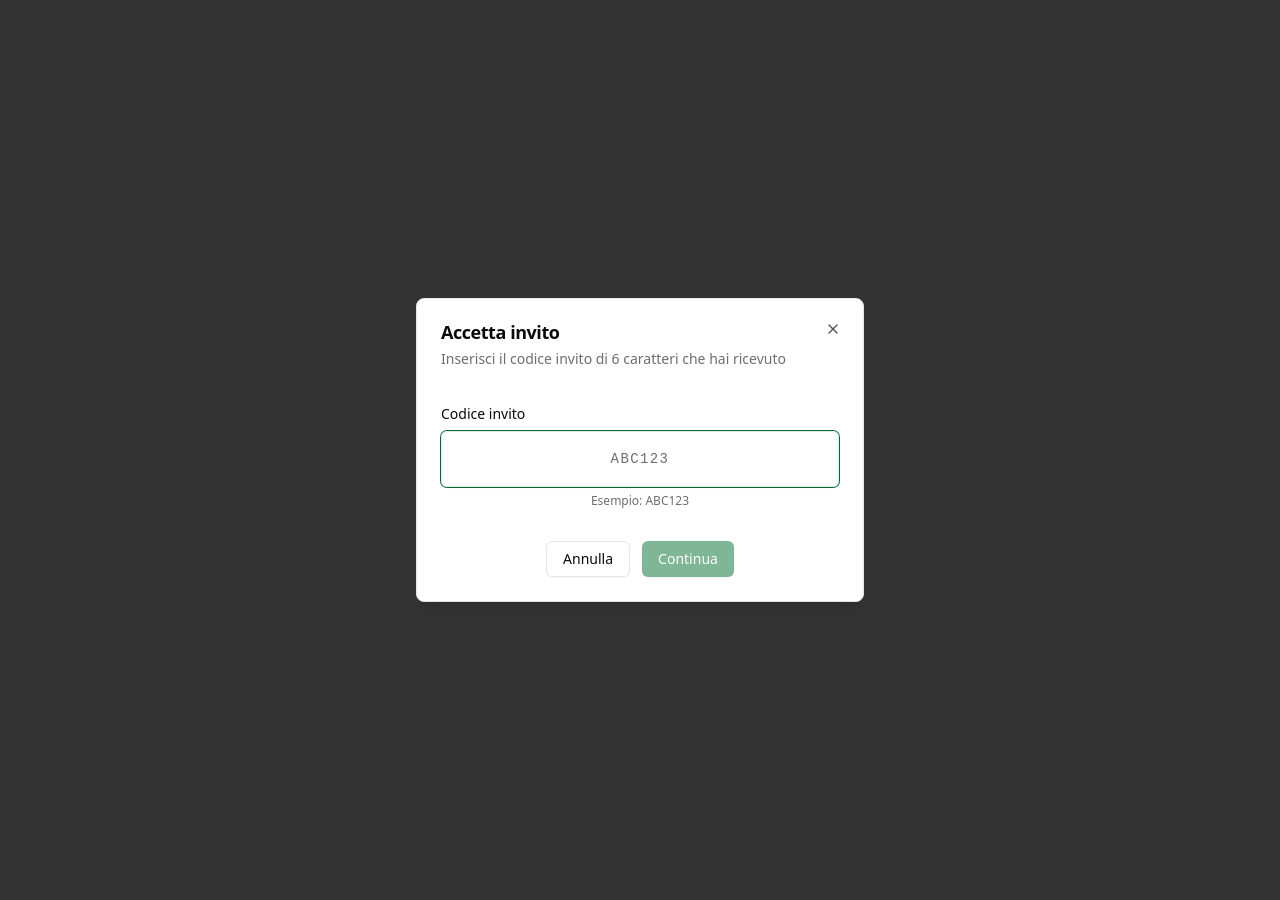
AcceptInviteFlowDialog — validazione codice › mostra inline il messaggio d’errore del backend per codice non valido
Type "ZZZ999" into the field with placeholder "ABC123" at x=640, y=459, box x1=441 y1=431 x2=839 y2=487
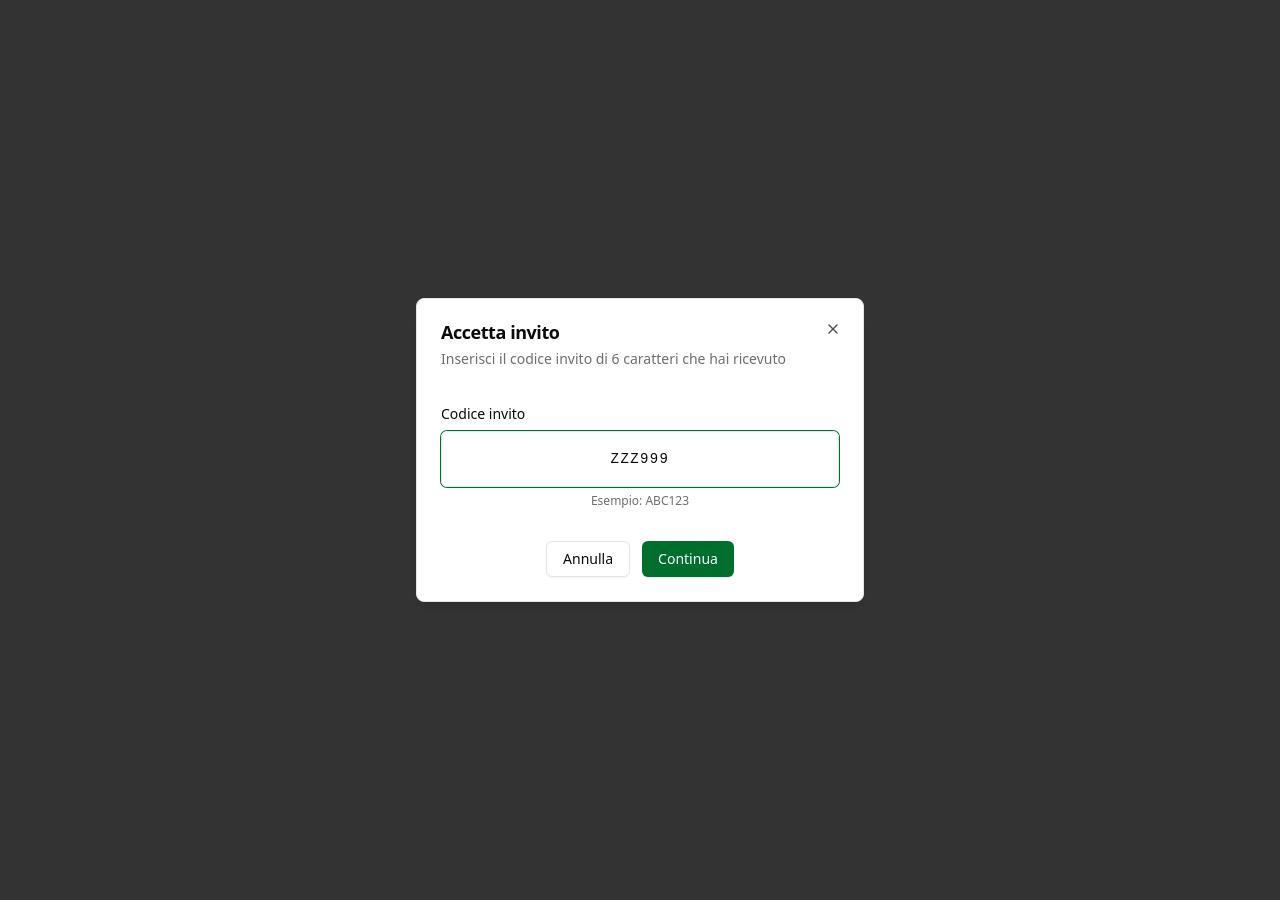
Click the button "Continua" at x=688, y=559, box x1=642 y1=541 x2=734 y2=577
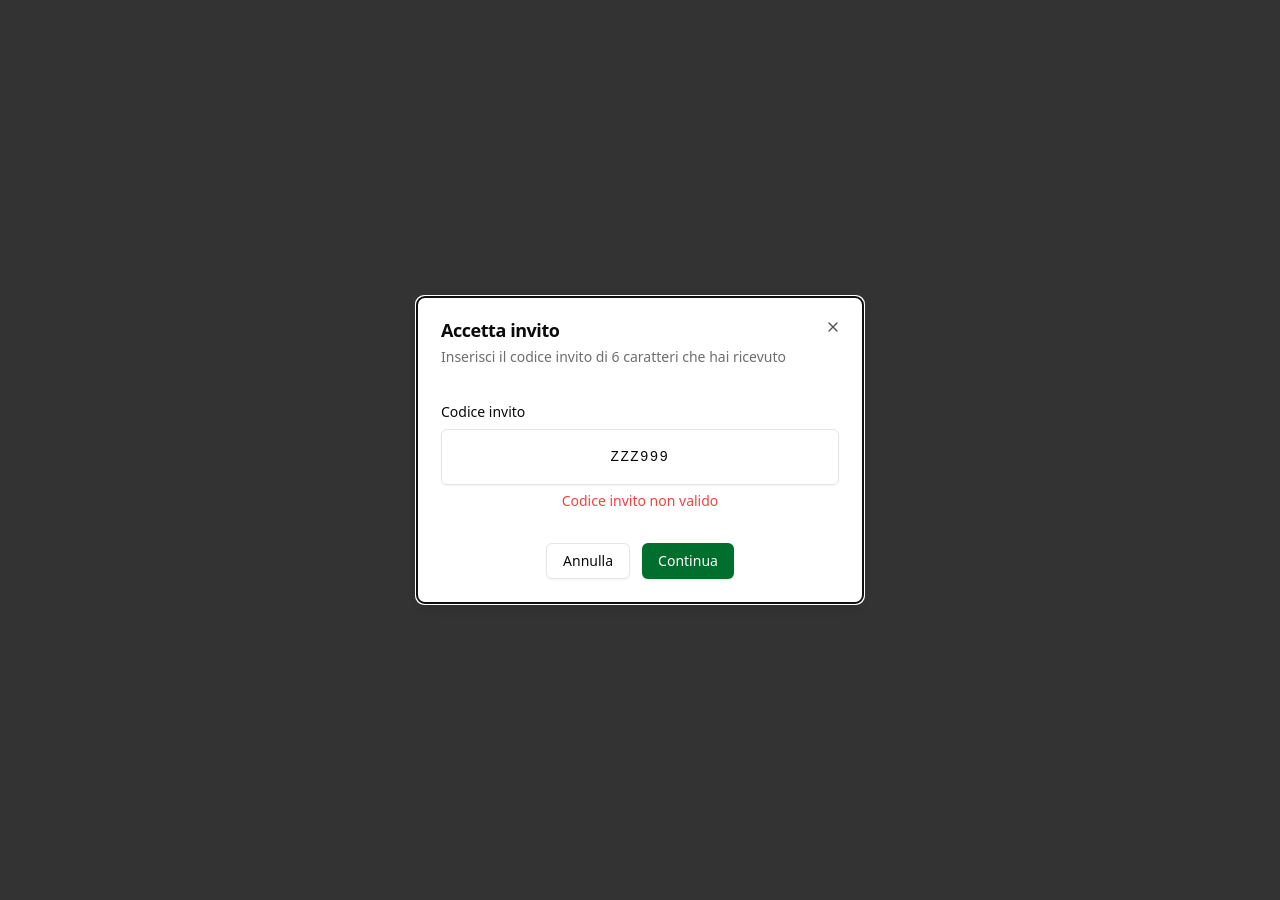
Now the message shows "non valido", box x1=562 y1=491 x2=718 y2=510
